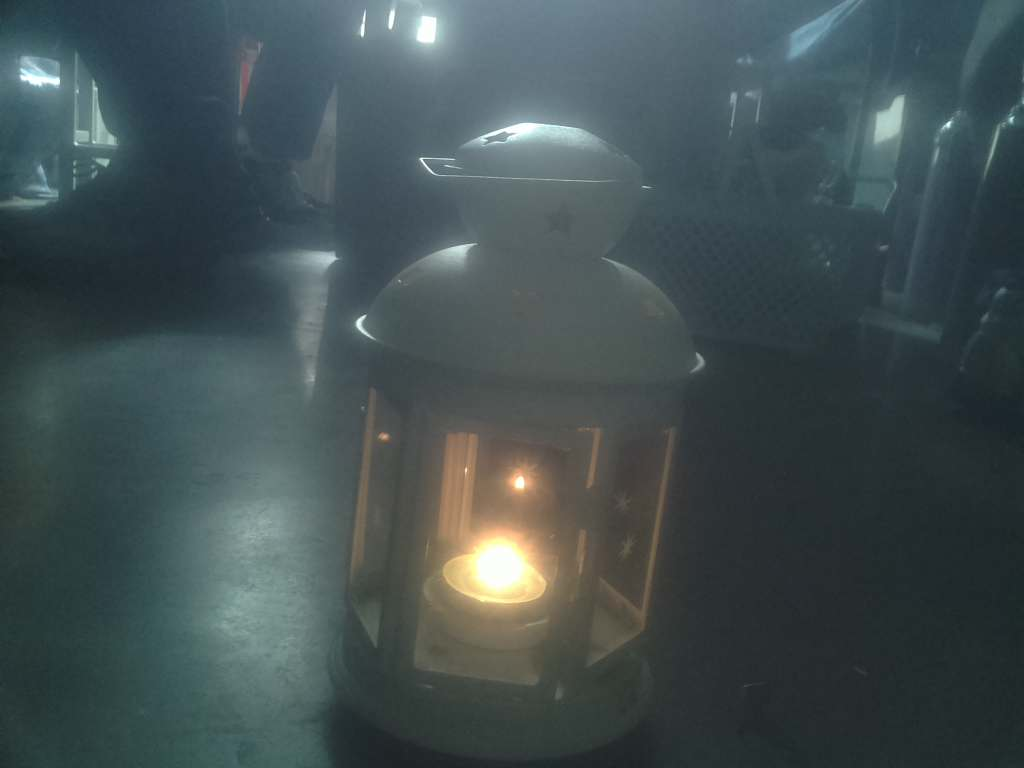fire: (440, 529, 550, 614)
